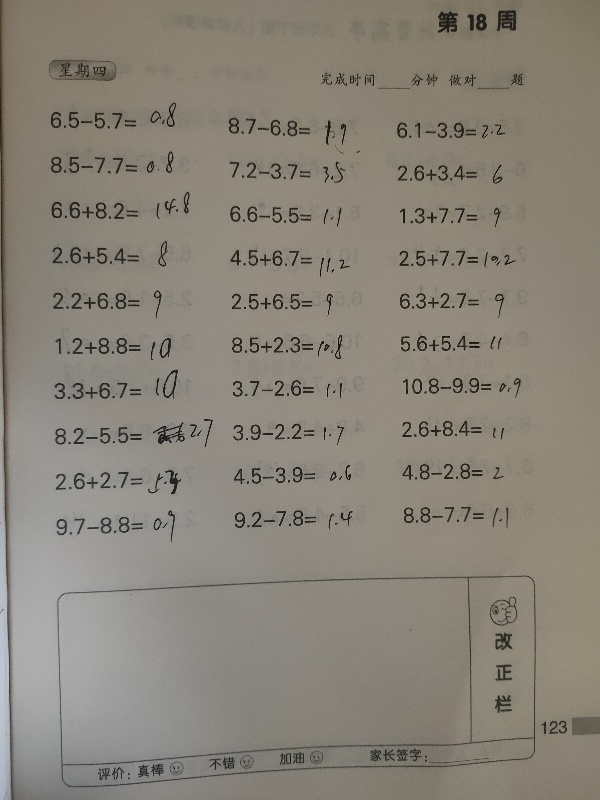equation: (212, 99, 357, 151), (215, 239, 365, 281), (47, 508, 191, 551), (47, 368, 196, 409), (219, 155, 364, 196), (52, 459, 187, 503), (41, 419, 215, 452), (224, 327, 355, 369), (391, 281, 519, 323), (44, 288, 177, 327), (44, 240, 179, 277), (47, 193, 194, 225), (229, 375, 359, 411), (395, 199, 532, 232), (395, 324, 520, 359), (45, 328, 177, 361), (46, 100, 180, 132), (227, 419, 359, 451), (221, 285, 353, 316), (392, 153, 517, 185), (46, 148, 177, 177), (230, 505, 356, 533), (399, 374, 525, 402), (399, 501, 513, 529), (229, 462, 354, 487), (225, 203, 345, 229), (395, 246, 519, 270), (392, 118, 508, 142), (398, 416, 507, 441), (399, 460, 508, 484)
